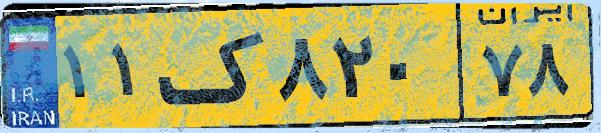0: (385, 28, 445, 110)
1: (57, 26, 110, 100), (110, 28, 158, 98)
2: (330, 28, 385, 110)
7: (475, 38, 525, 113)
8: (270, 28, 330, 110), (525, 38, 570, 115)
ک: (158, 12, 270, 120)
